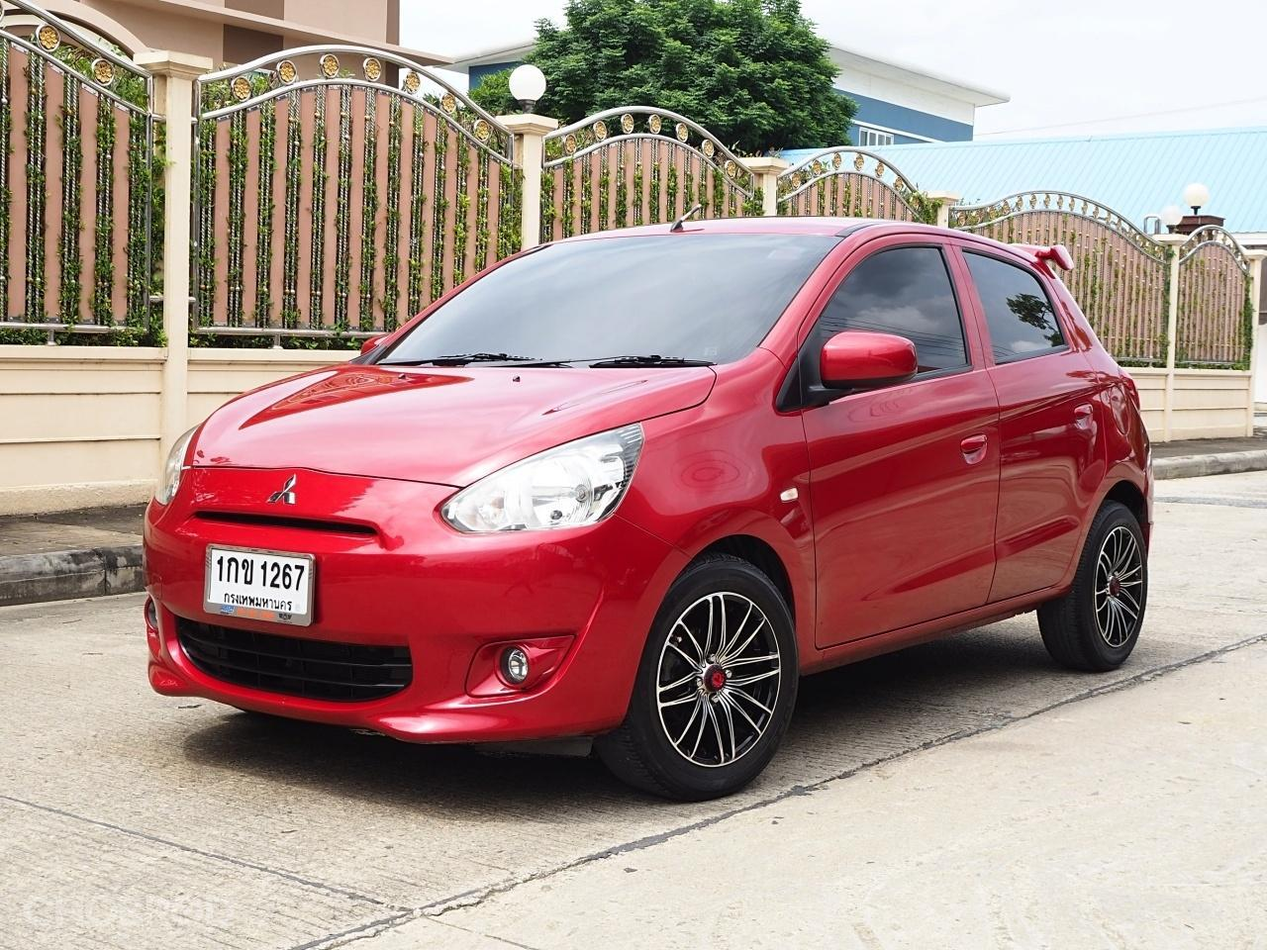license-plate: (200, 537, 323, 631)
